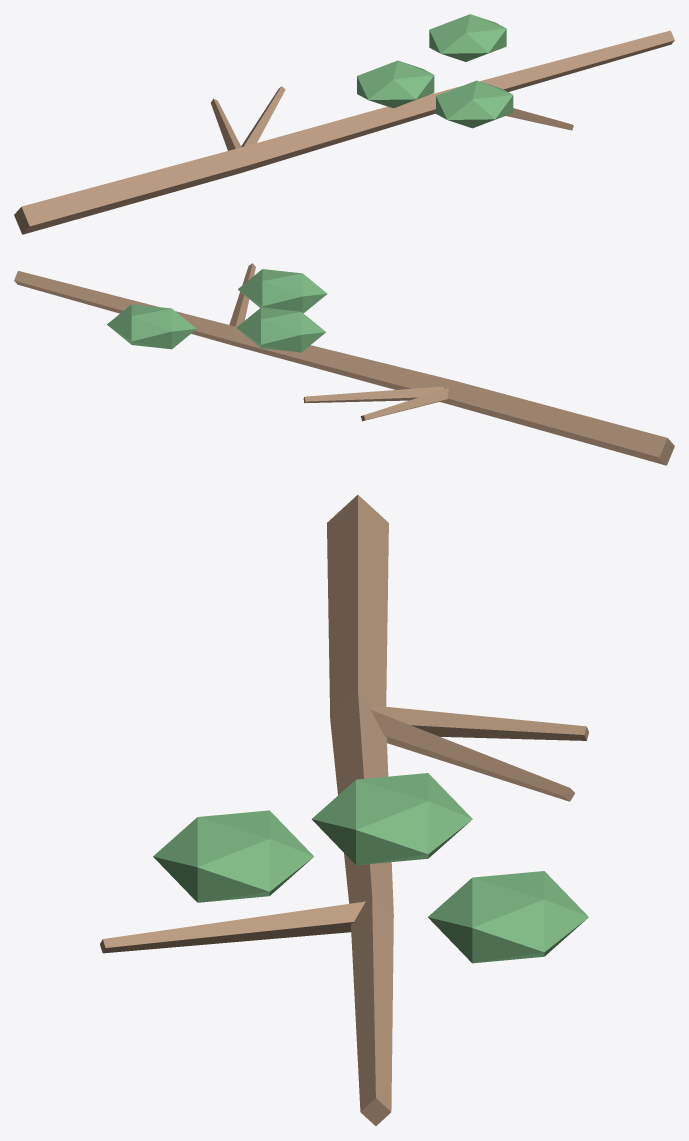
Rendered from galho_2.fbx.
The picture shows the model from 3 angles, top to bottom: view 1: azimuth 30°, elevation 25°; view 2: azimuth 150°, elevation 25°; view 3: azimuth 270°, elevation 25°; orthographic projection. The views are drawn at different scales.
Parts seen in each view (by area): view 1: galho_2~Galho@bark, galho_2~Folhas 1@leafdark, galho_2~Folhas 0@leafdark, galho_2~Folhas 2@leafdark, galho_2~Graveto 0@bark, galho_2~Graveto 2@bark, galho_2~Graveto 1@bark; view 2: galho_2~Galho@bark, galho_2~Folhas 1@leafdark, galho_2~Folhas 0@leafdark, galho_2~Folhas 2@leafdark, galho_2~Graveto 0@bark, galho_2~Graveto 2@bark, galho_2~Graveto 1@bark; view 3: galho_2~Galho@bark, galho_2~Folhas 2@leafdark, galho_2~Folhas 1@leafdark, galho_2~Folhas 0@leafdark, galho_2~Graveto 1@bark, galho_2~Graveto 0@bark, galho_2~Graveto 2@bark.
Part boxes in pixels (x1,y1,x2,y2): galho_2~Galho@bark: (14,30,674,234); galho_2~Folhas 1@leafdark: (357,60,434,108); galho_2~Folhas 0@leafdark: (429,14,506,61); galho_2~Folhas 2@leafdark: (436,80,513,128); galho_2~Graveto 0@bark: (241,86,285,147); galho_2~Graveto 2@bark: (211,98,241,150); galho_2~Graveto 1@bark: (506,108,573,130); galho_2~Galho@bark: (14,271,674,465); galho_2~Folhas 1@leafdark: (236,307,325,352); galho_2~Folhas 0@leafdark: (107,304,196,349); galho_2~Folhas 2@leafdark: (238,269,327,313); galho_2~Graveto 0@bark: (303,386,443,403); galho_2~Graveto 2@bark: (360,388,448,421); galho_2~Graveto 1@bark: (229,263,255,326); galho_2~Galho@bark: (327,495,393,1125); galho_2~Folhas 2@leafdark: (153,810,313,902); galho_2~Folhas 1@leafdark: (311,773,472,865); galho_2~Folhas 0@leafdark: (428,871,588,963); galho_2~Graveto 1@bark: (100,901,365,953); galho_2~Graveto 0@bark: (371,710,574,801); galho_2~Graveto 2@bark: (370,705,588,740).
Size of the model in its own units: 2.4 by 0.2292 by 0.7881.
